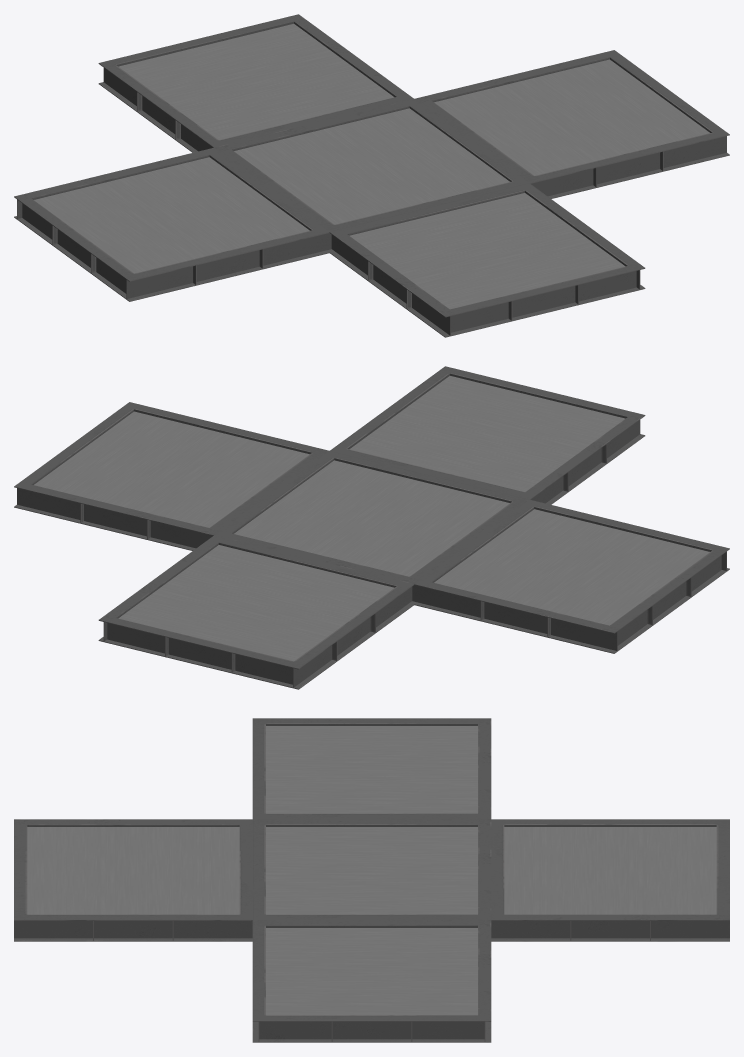
File: SM05_Architecture_MezzanineFloor_01_Intersection_X.fbx
3 views of the same model, one above another, from view 1: azimuth 30°, elevation 25°; view 2: azimuth 150°, elevation 25°; view 3: azimuth 270°, elevation 25° (orthographic). The views are drawn at different scales.
Visible parts, largest first — view 1: SM05_Architecture_MezzanineFloor_01_Intersection_X; view 2: SM05_Architecture_MezzanineFloor_01_Intersection_X; view 3: SM05_Architecture_MezzanineFloor_01_Intersection_X.
Boxes of the visible parts, x1,y1,x2,y2 form: SM05_Architecture_MezzanineFloor_01_Intersection_X: (14,14,729,337); SM05_Architecture_MezzanineFloor_01_Intersection_X: (14,366,729,689); SM05_Architecture_MezzanineFloor_01_Intersection_X: (14,718,729,1042).
Bounding box in the file's own units: 3 × 0.1 × 3.
